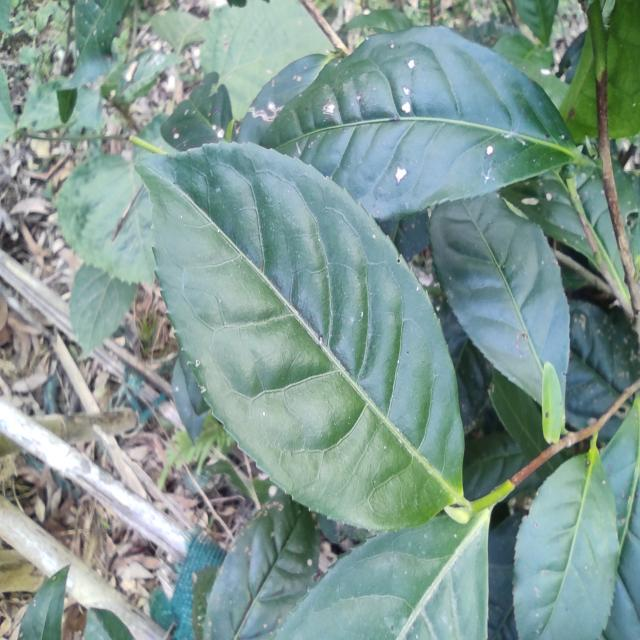Category D(7+ days, Not for Tea): (98, 119, 470, 532)
